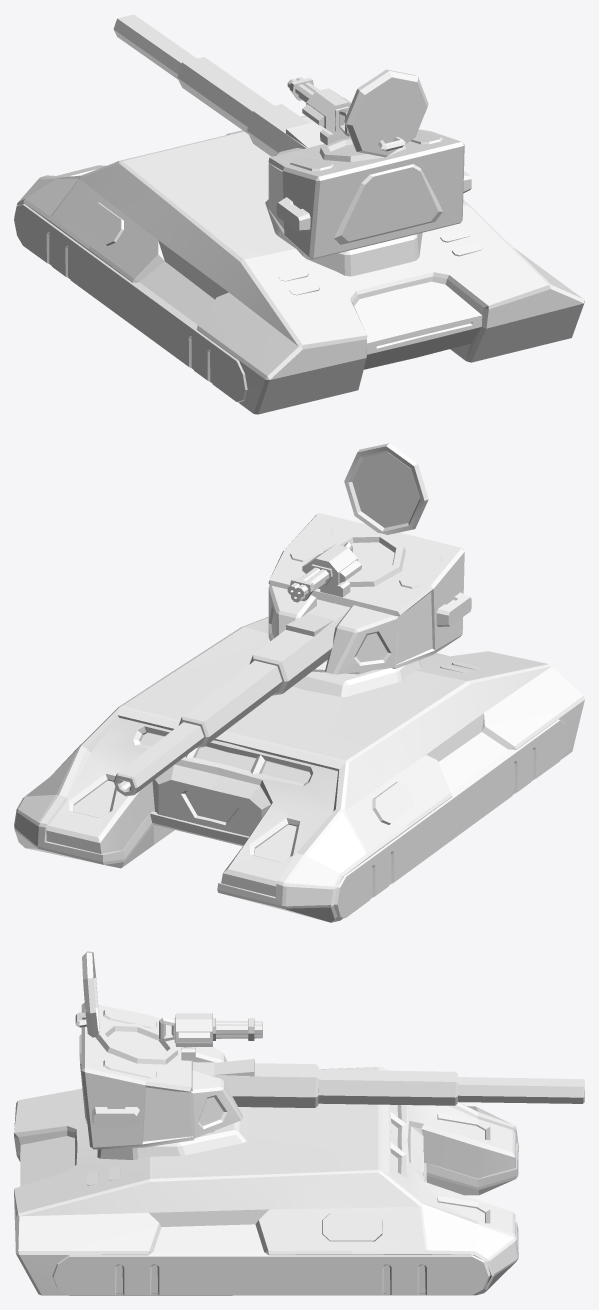
File: Tank.glb
The picture shows the model from 3 angles, top to bottom: view 1: azimuth 30°, elevation 25°; view 2: azimuth 150°, elevation 25°; view 3: azimuth 270°, elevation 25°; orthographic projection. The views are drawn at different scales.
Parts seen in each view (by area): view 1: TankArenaHologram; view 2: TankArenaHologram; view 3: TankArenaHologram.
Part boxes in pixels (bbox=[...]): TankArenaHologram: bbox=[14, 14, 584, 414]; TankArenaHologram: bbox=[14, 443, 584, 922]; TankArenaHologram: bbox=[14, 951, 584, 1295].
Bounding box in the file's own units: 4.02 × 3.41 × 6.52.
Materials: 2 (1 with a texture image).
